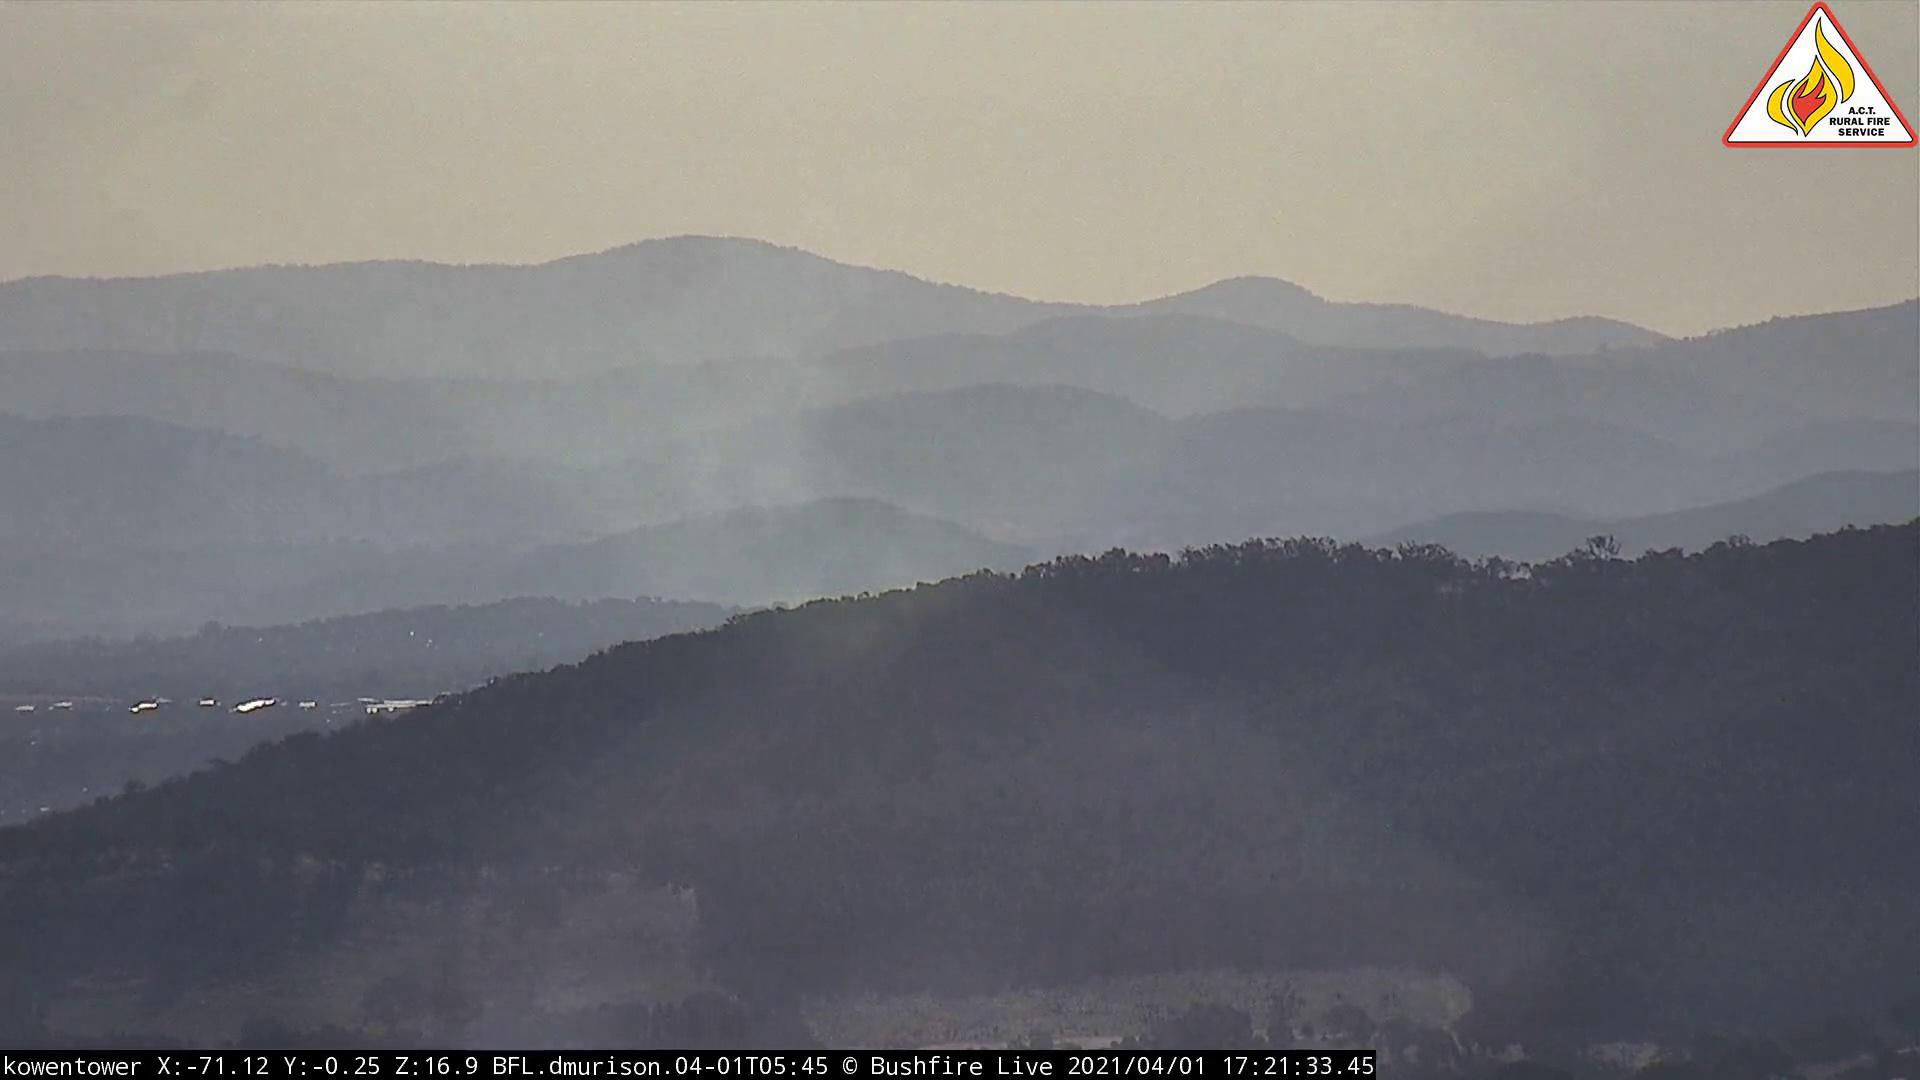instance_salient_object: (599, 241, 942, 657)
